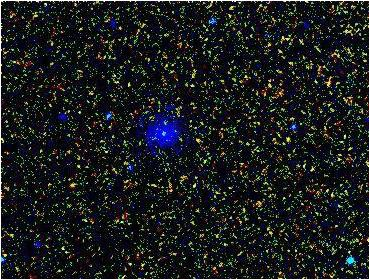star: (147, 109, 177, 139)
